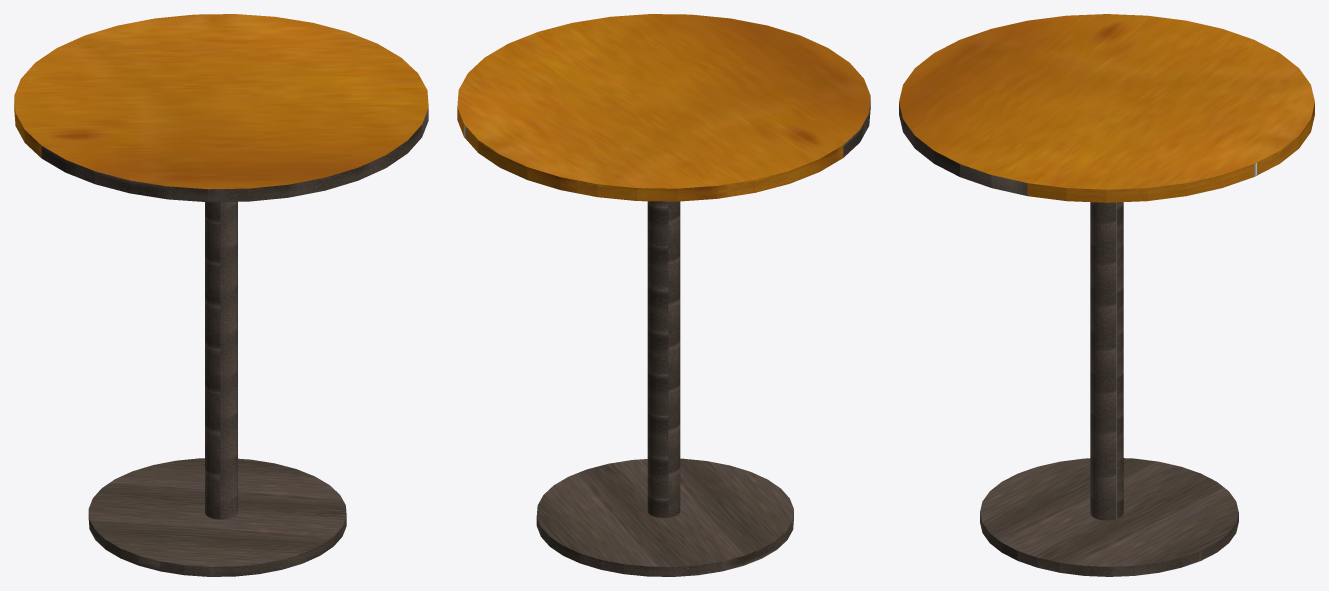
File: starbucks table.fbx
3 renders of one model, left to right at view 1: azimuth 30°, elevation 25°; view 2: azimuth 150°, elevation 25°; view 3: azimuth 270°, elevation 25°, orthographic.
Visible parts, largest first — view 1: Cylinder; view 2: Cylinder; view 3: Cylinder.
Boxes of the visible parts, x1,y1,x2,y2 form: Cylinder: (14,14,428,576); Cylinder: (457,14,870,576); Cylinder: (899,14,1314,576).
Bounding box in the file's own units: 761 × 851 × 761.
Materials: 1 (1 with a texture image).
